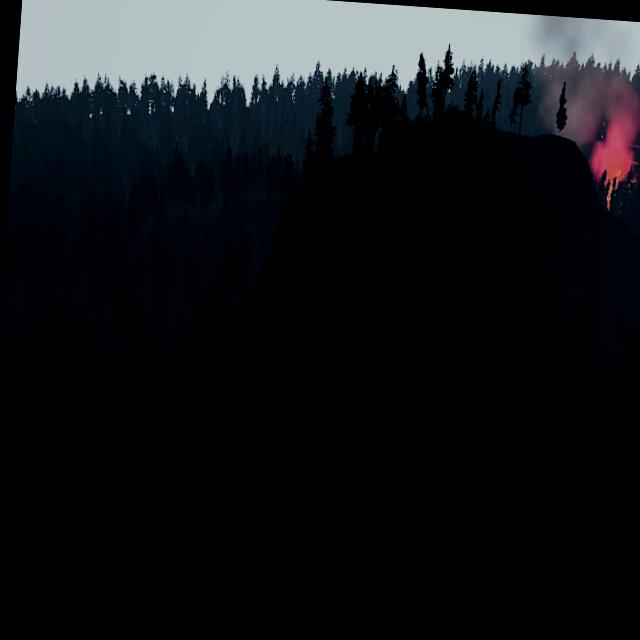fire: (587, 99, 640, 214)
smoke: (516, 14, 640, 182)
